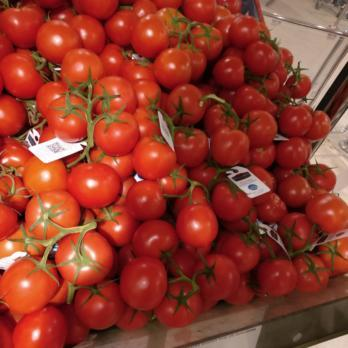Tomato: (0, 1, 248, 324), (237, 45, 348, 295)
